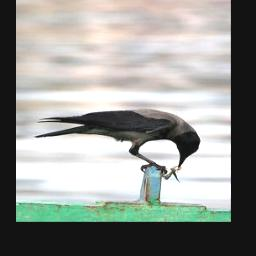Crow: (33, 107, 201, 174)
